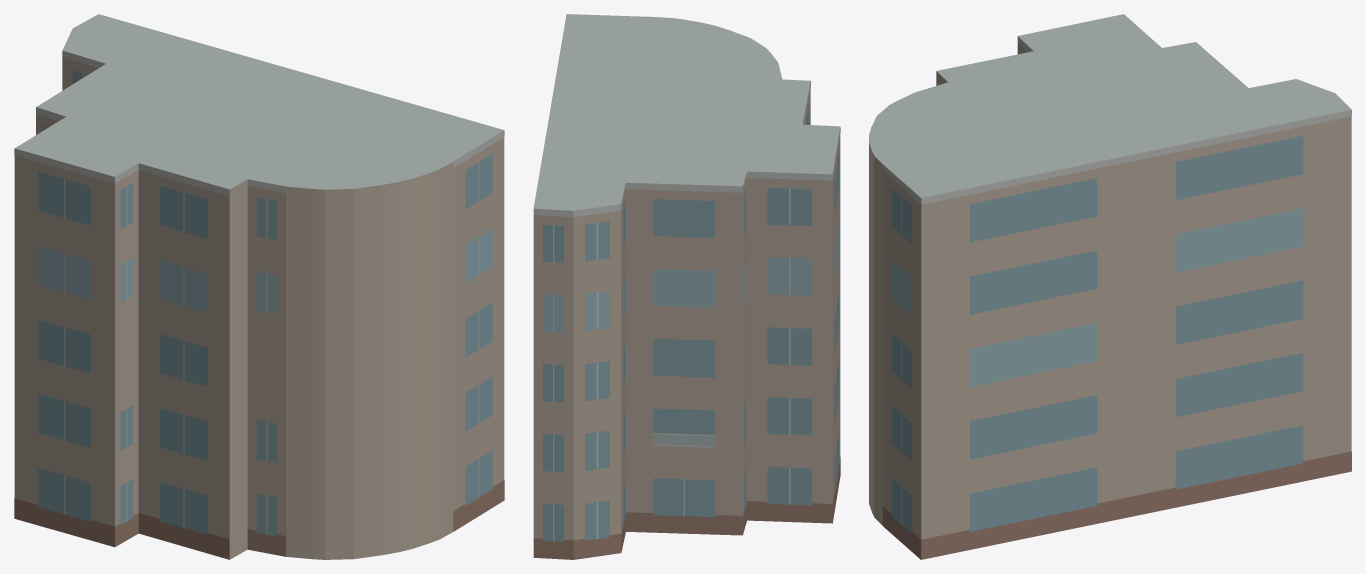
Rendered from survey-upis-32867931.glb.
3 views of the same model, side by side, from view 1: azimuth 30°, elevation 25°; view 2: azimuth 150°, elevation 25°; view 3: azimuth 270°, elevation 25° (orthographic). The views are drawn at different scales.
Parts seen in each view (by area): view 1: survey-upis-32867931.tmp; view 2: survey-upis-32867931.tmp; view 3: survey-upis-32867931.tmp.
Boxes of the visible parts, x1=… form: survey-upis-32867931.tmp: x1=14, y1=14, x2=504, y2=559; survey-upis-32867931.tmp: x1=533, y1=14, x2=840, y2=559; survey-upis-32867931.tmp: x1=869, y1=14, x2=1351, y2=559.
Size of the model in its own units: 14.52 by 13.3 by 16.09.
